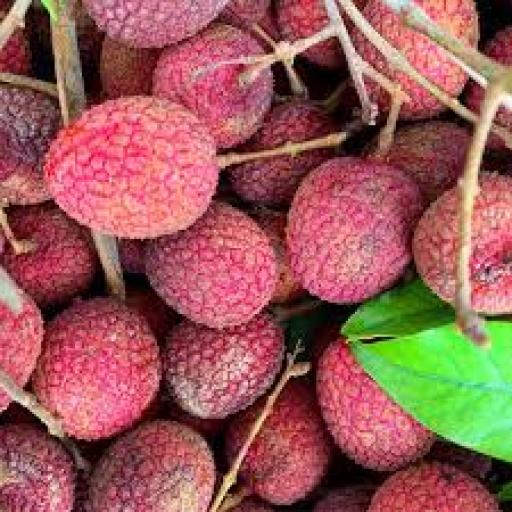lychee: (46, 96, 218, 238), (287, 158, 423, 302), (32, 299, 161, 439), (146, 203, 277, 327), (317, 340, 434, 471), (153, 23, 273, 147), (162, 315, 284, 418), (89, 421, 216, 511), (242, 381, 332, 505), (0, 203, 97, 307), (365, 0, 468, 95), (0, 87, 61, 204), (385, 121, 471, 202), (85, 0, 229, 47), (0, 426, 75, 511), (369, 462, 498, 511), (228, 148, 334, 207), (469, 173, 511, 314), (0, 267, 43, 386), (255, 210, 304, 302), (101, 37, 159, 97), (126, 283, 179, 341), (164, 396, 227, 439), (428, 442, 491, 480), (276, 0, 329, 43), (315, 485, 375, 511), (219, 0, 270, 29), (0, 30, 31, 75), (485, 28, 511, 65), (119, 239, 145, 275), (233, 499, 273, 511)
